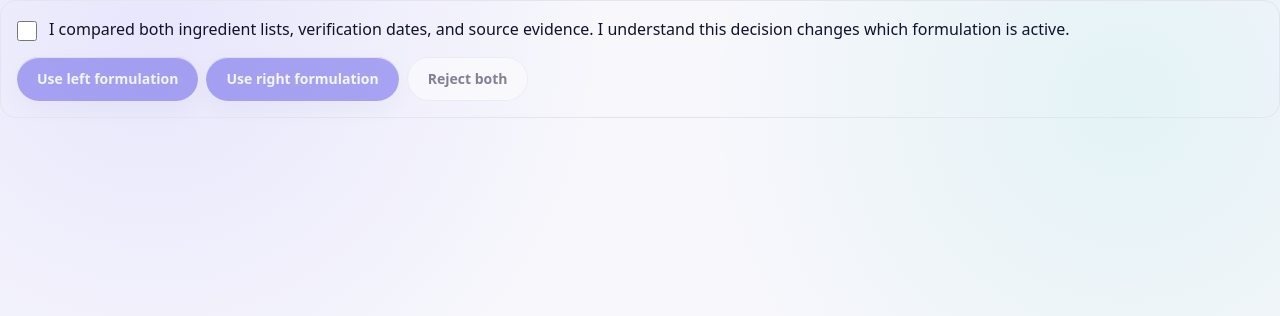
Test: Phase 8 formulation conflict controls › keeps every decision disabled until evidence is acknowledged
Expected: the button "Use left formulation" is disabled, x1=17 y1=57 x2=198 y2=101
Expected: the button "Use right formulation" is disabled, x1=206 y1=57 x2=399 y2=101
Step 1. Click the checkbox → click(27, 31), box x1=17 y1=21 x2=37 y2=41
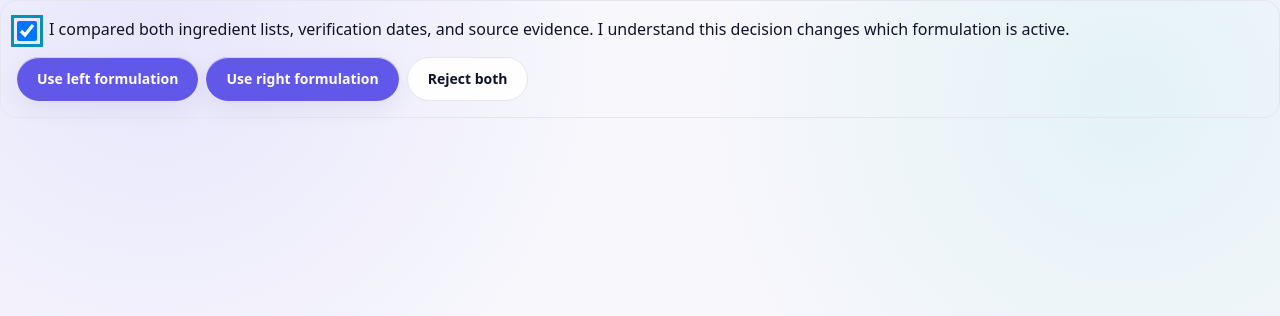
Result: the button "Use left formulation" is enabled at x1=17 y1=57 x2=198 y2=101
